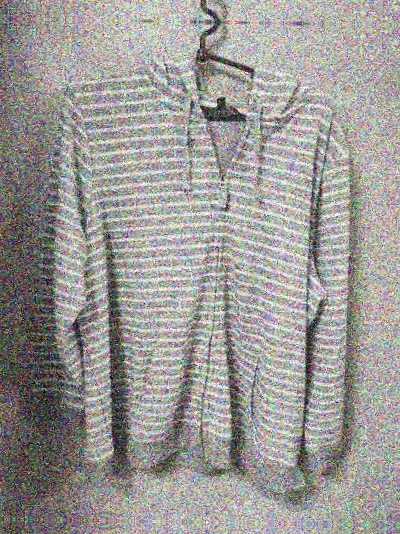Hoodie: (33, 41, 367, 485), (40, 0, 375, 2)
